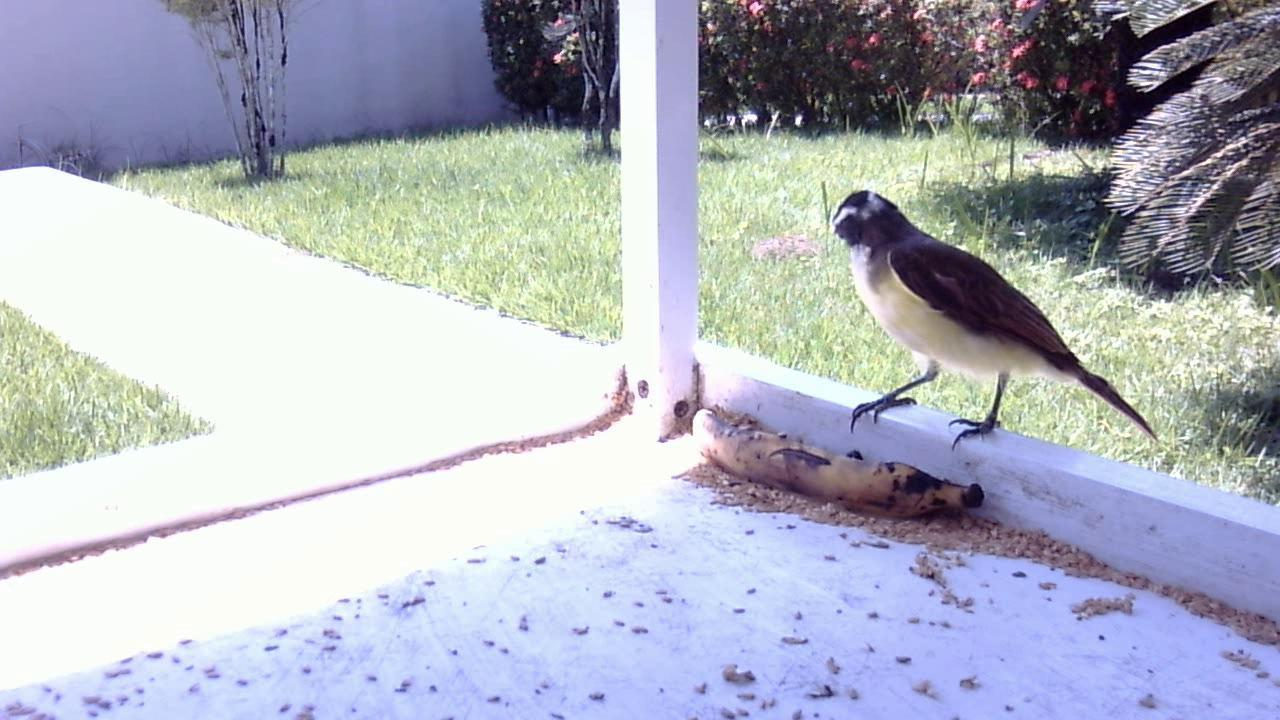bem_te_vi: (821, 185, 1171, 465)
